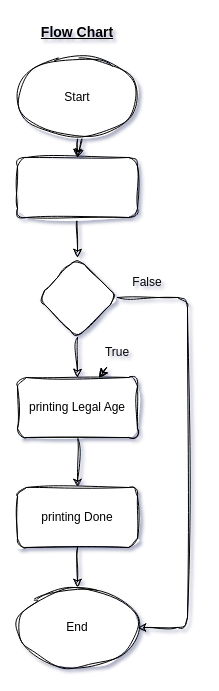
Some shapes in this 219 by 691 pixel diagram are drawn without their labels. The centre of each missing label's shape, as x and y in pixels:
if 18 above: (77,297)
input for age: (77,187)
